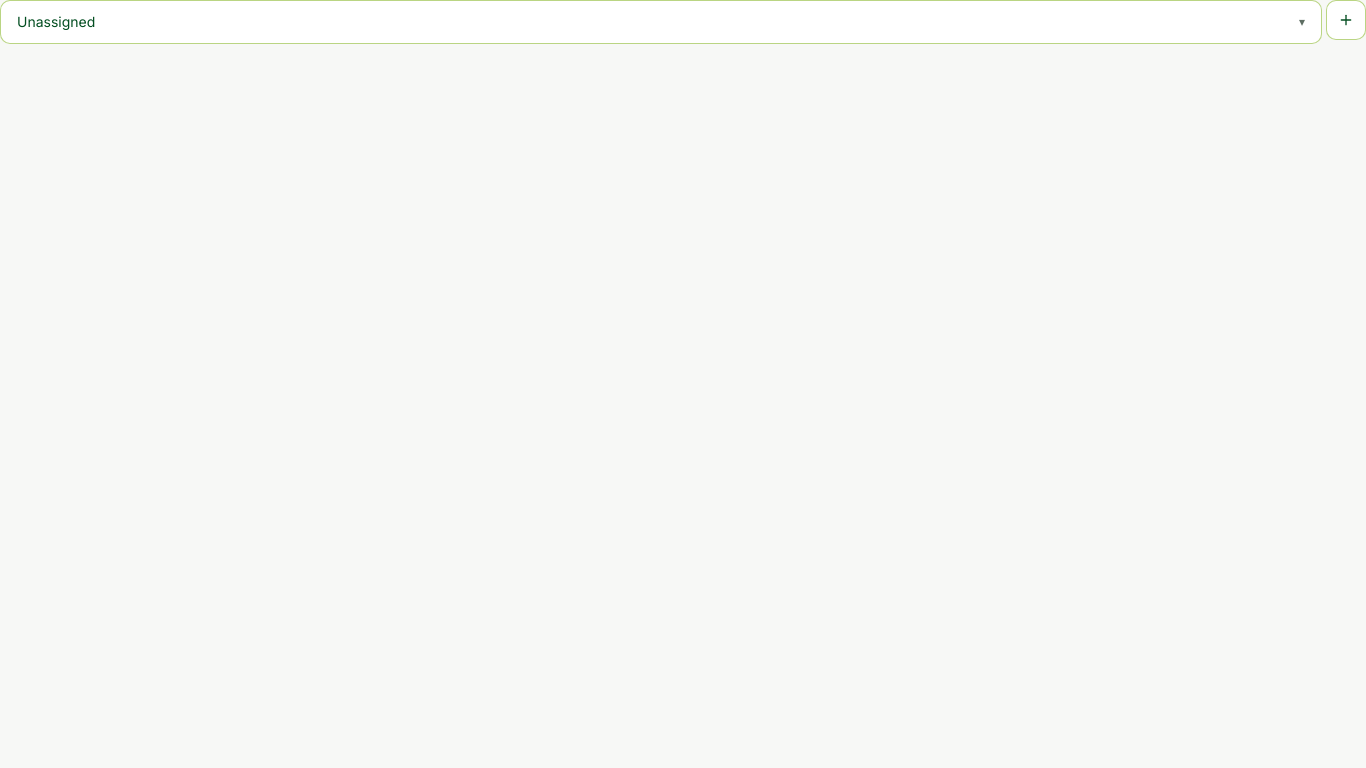
it: resource picker quick-add › blocks duplicate names
Click the button named "Add crew / contractor": [1346, 20] box x1=1326 y1=0 x2=1365 y2=40
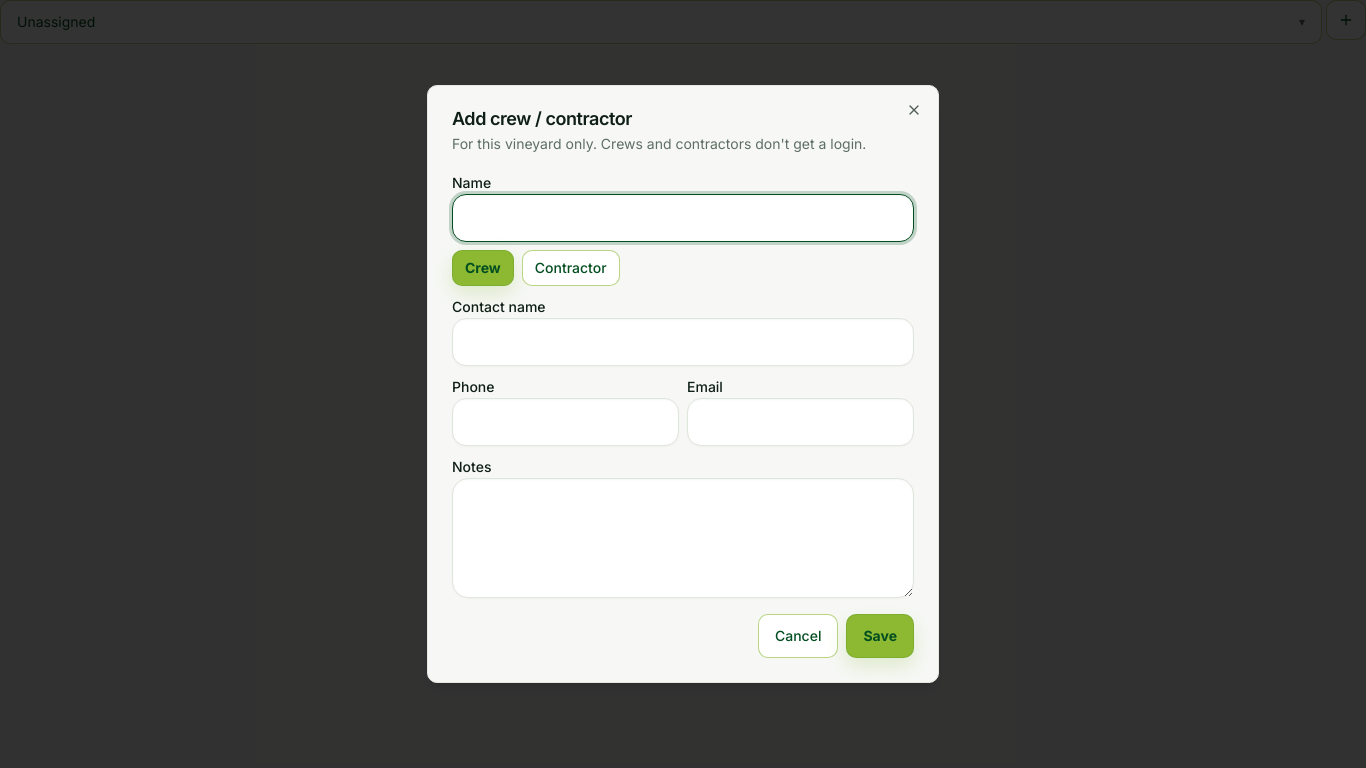
In the field labelled "Name": [683, 218] box x1=452 y1=194 x2=914 y2=242, type "smith  crew"
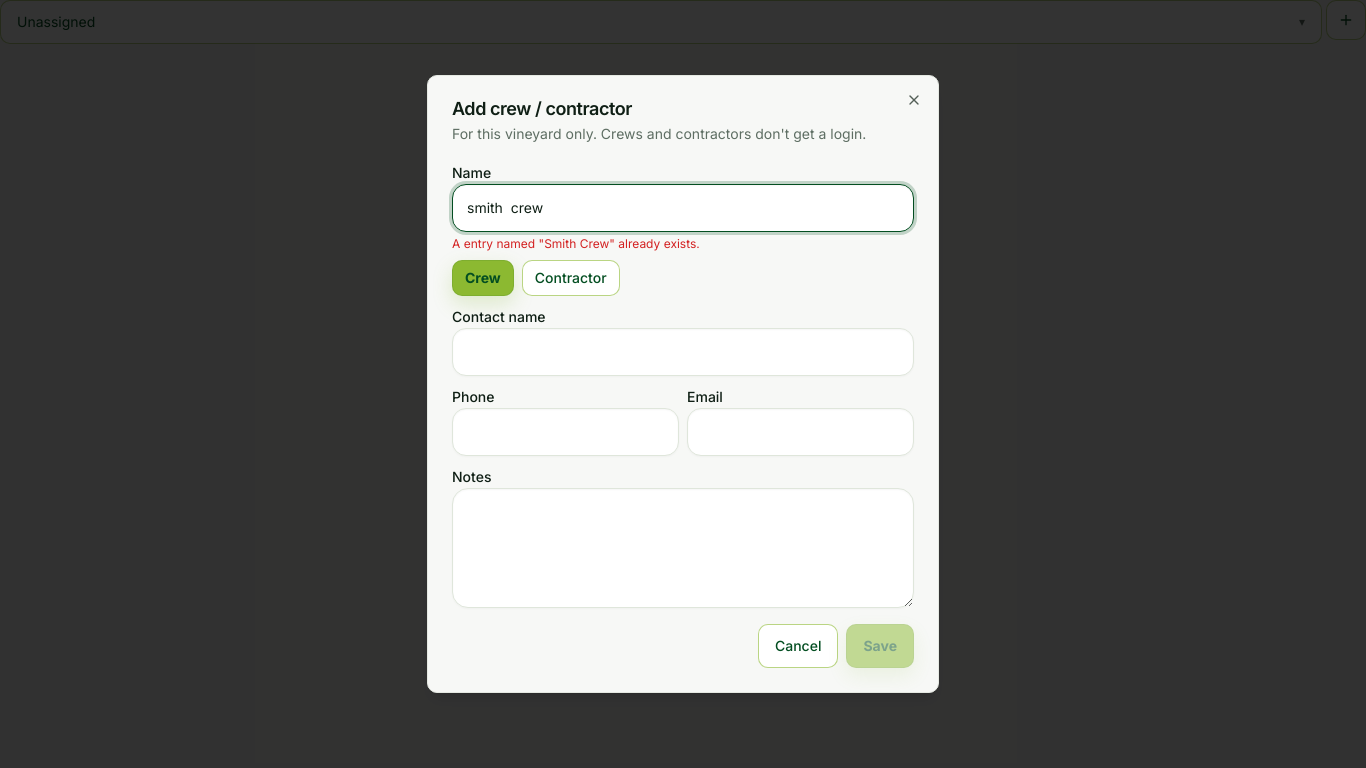
expect the button "Save" is disabled: met, box x1=846 y1=624 x2=914 y2=668
